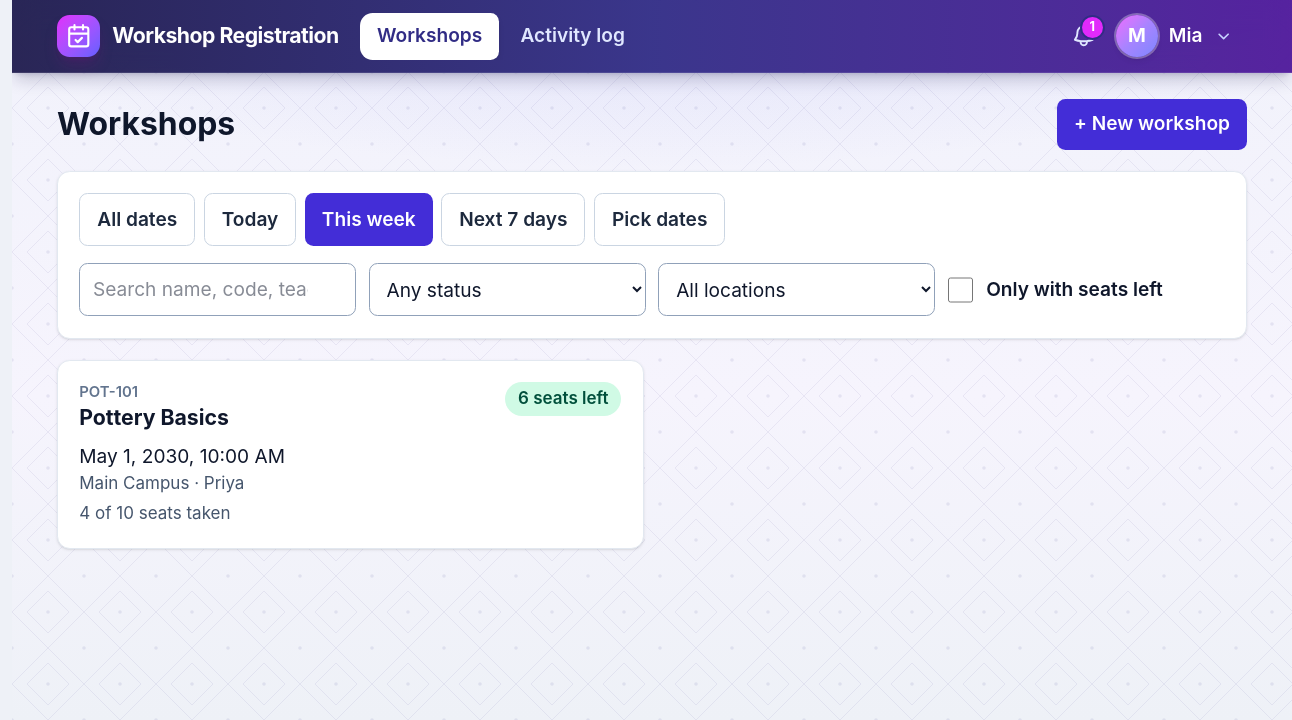
Test: navigation › shows the first name, opens the account menu and logs out back to /login
Click the button "M Mia" at (1179, 36), box [1111,11,1247,62]
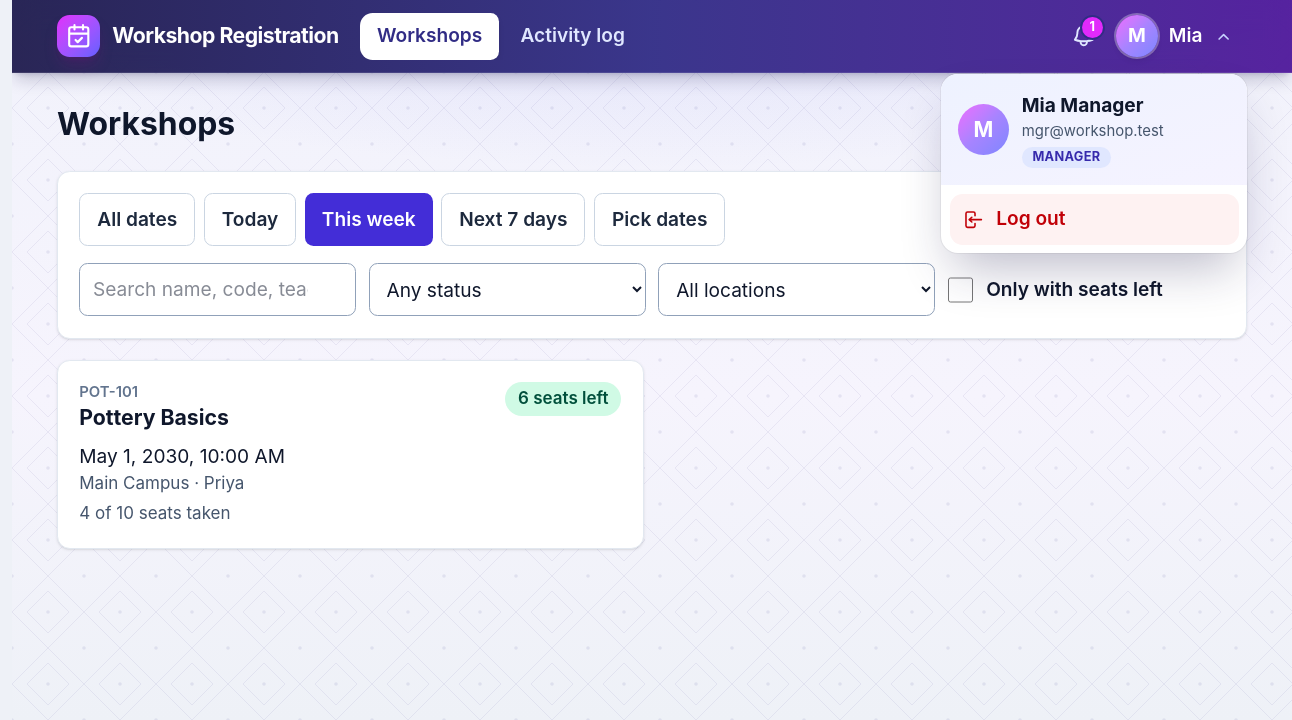
Expected: the menu shows "Mia Manager", [1022,93,1144,117]
Expected: the menu shows "Manager", [1032,149,1100,164]
Click the menu item "Log out" at (1031, 218), box [950,194,1238,245]
(page scrolled)
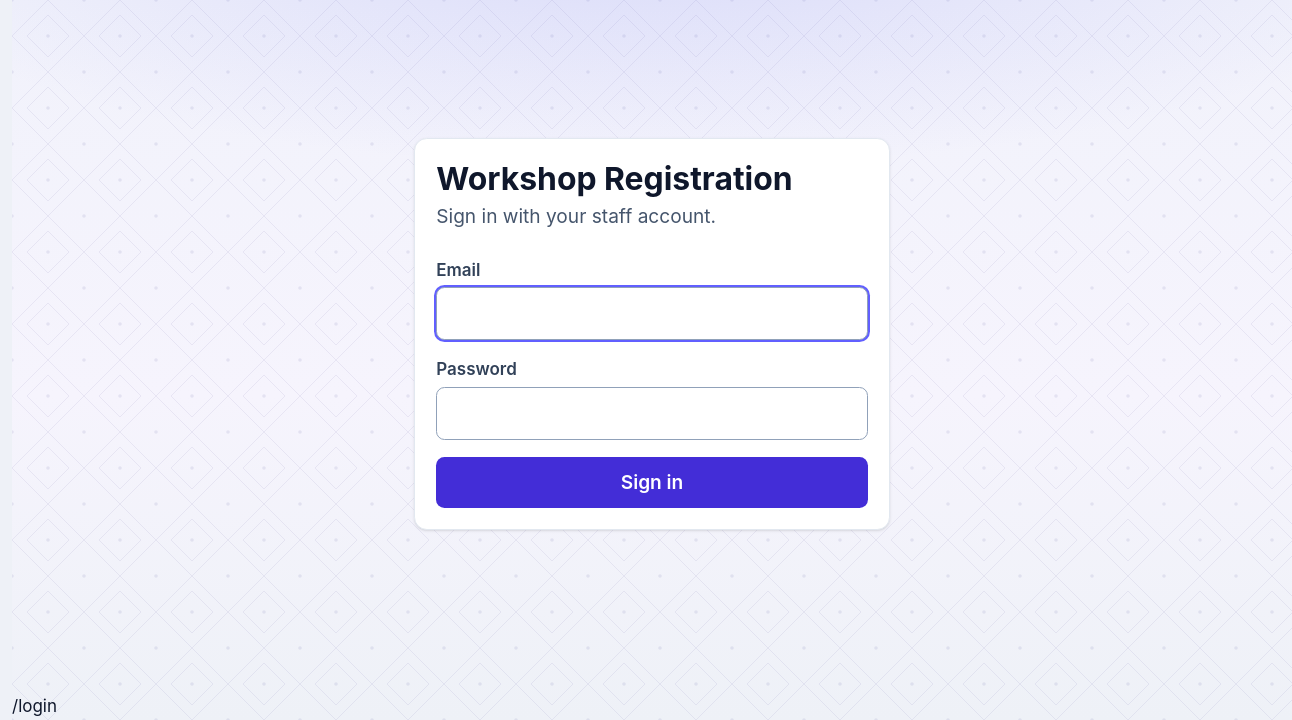
Expected: the text with test id "location" reads "/login", [12,696,57,716]
